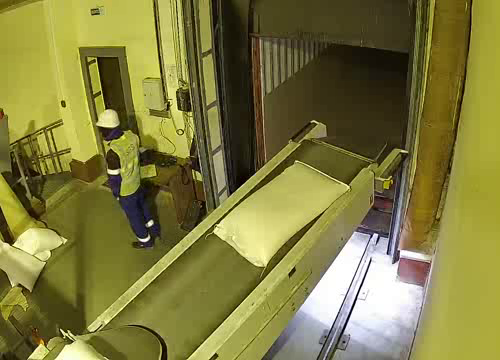bag: (208, 147, 370, 265), (51, 334, 124, 360)
